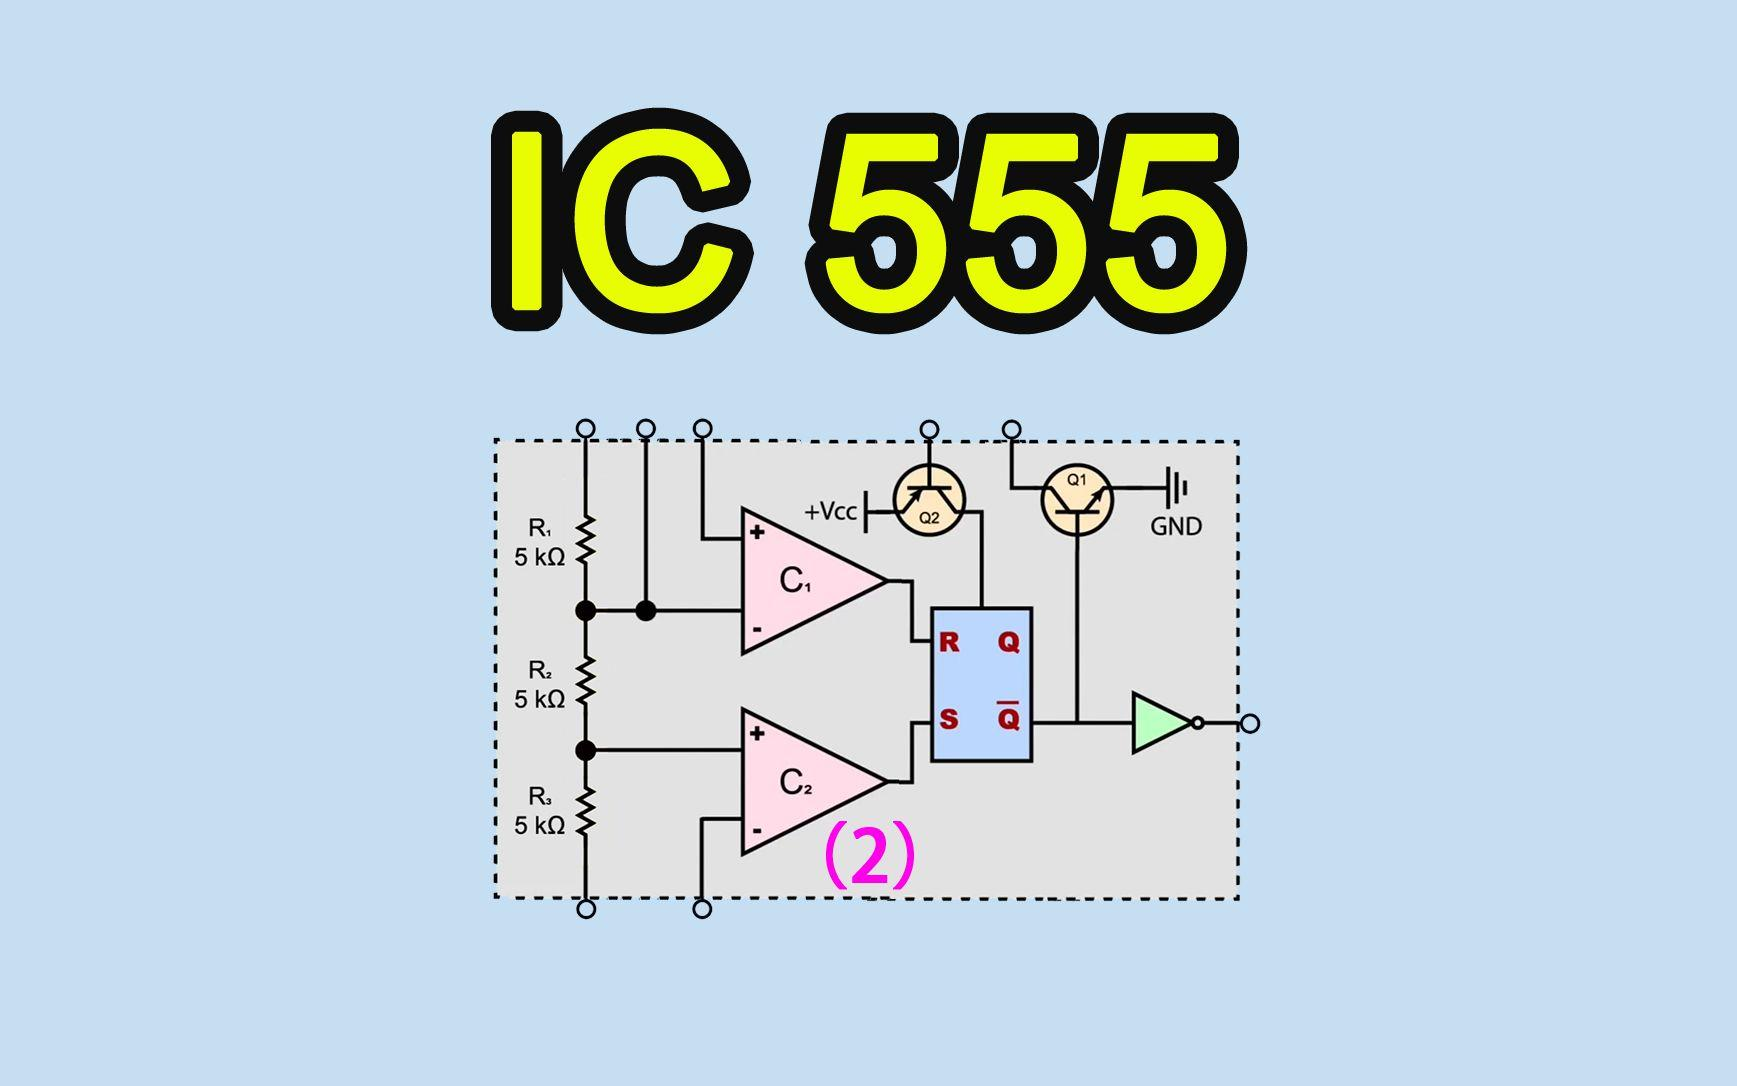bistable flip-flop: (930, 607, 1032, 762)
comparator1: (742, 508, 888, 654), (744, 707, 887, 856)
discharge circuit: (1042, 463, 1115, 539)
output circuit: (1132, 691, 1208, 758)
reset circuit: (892, 463, 967, 539)
resistance: (578, 510, 597, 567), (578, 787, 597, 838), (578, 657, 597, 706)
